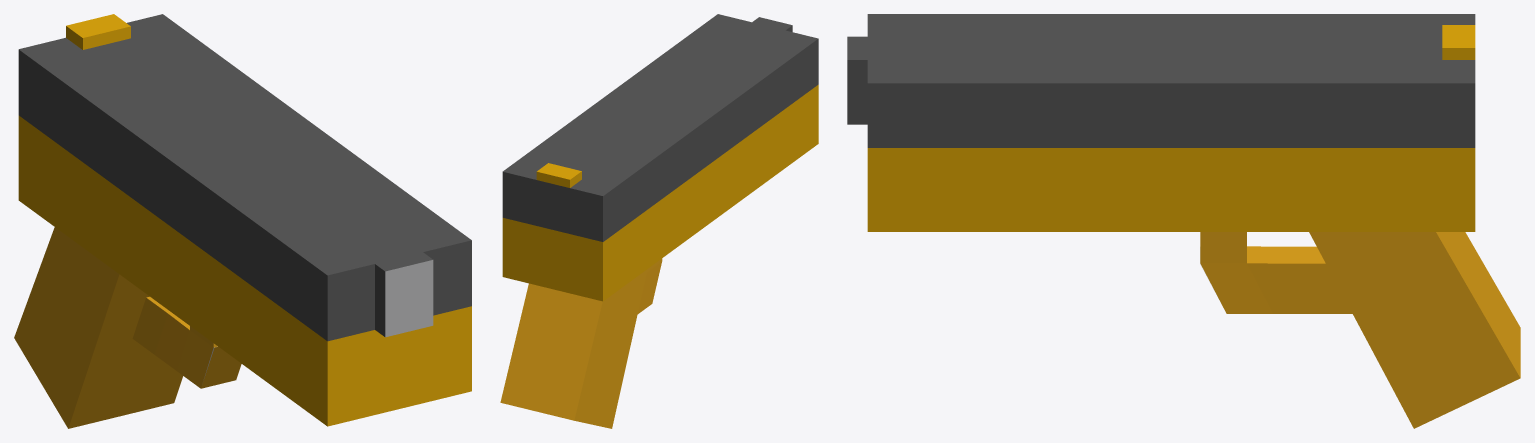
The model's file is fastGun.fbx.
The picture shows the model from 3 angles, left to right: view 1: azimuth 30°, elevation 25°; view 2: azimuth 150°, elevation 25°; view 3: azimuth 270°, elevation 25°; orthographic projection. The views are drawn at different scales.
Visible parts, largest first — view 1: Cube.001, Cube; view 2: Cube.001, Cube; view 3: Cube.001, Cube.
Boxes of the visible parts, bbox=[...] form: Cube.001: bbox=[18, 14, 471, 426]; Cube: bbox=[14, 227, 241, 428]; Cube.001: bbox=[502, 14, 818, 301]; Cube: bbox=[500, 258, 662, 428]; Cube.001: bbox=[847, 14, 1475, 231]; Cube: bbox=[1200, 232, 1520, 428].
Size of the model in its own units: 1.16 by 2.86 by 4.76.
